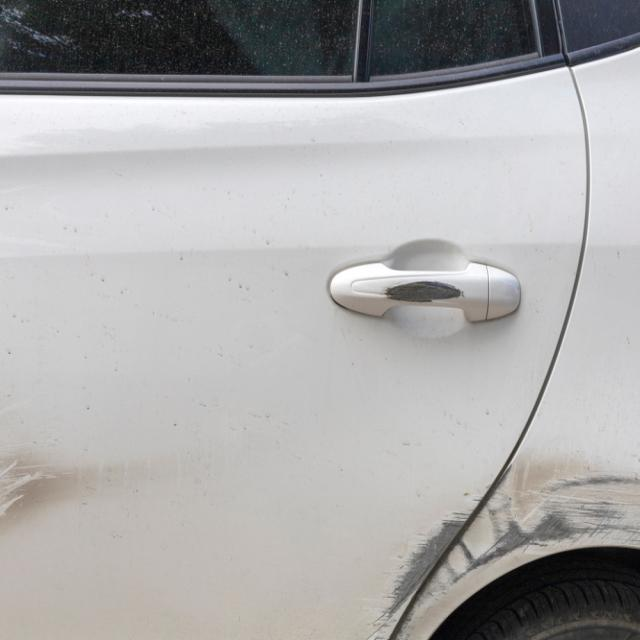scratch: (385, 460, 640, 640), (361, 485, 492, 640), (382, 279, 466, 301)
